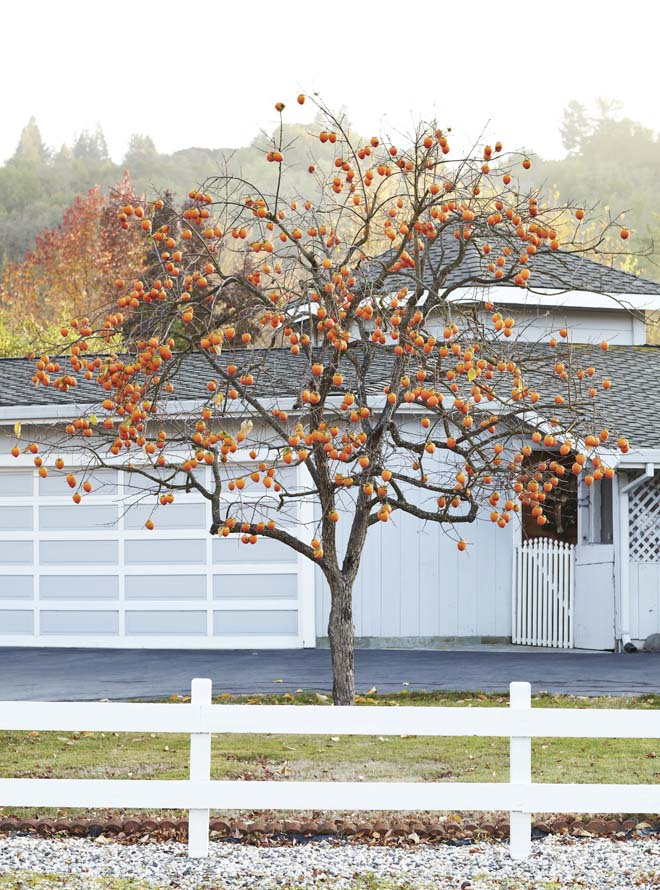tree: (25, 112, 640, 697)
